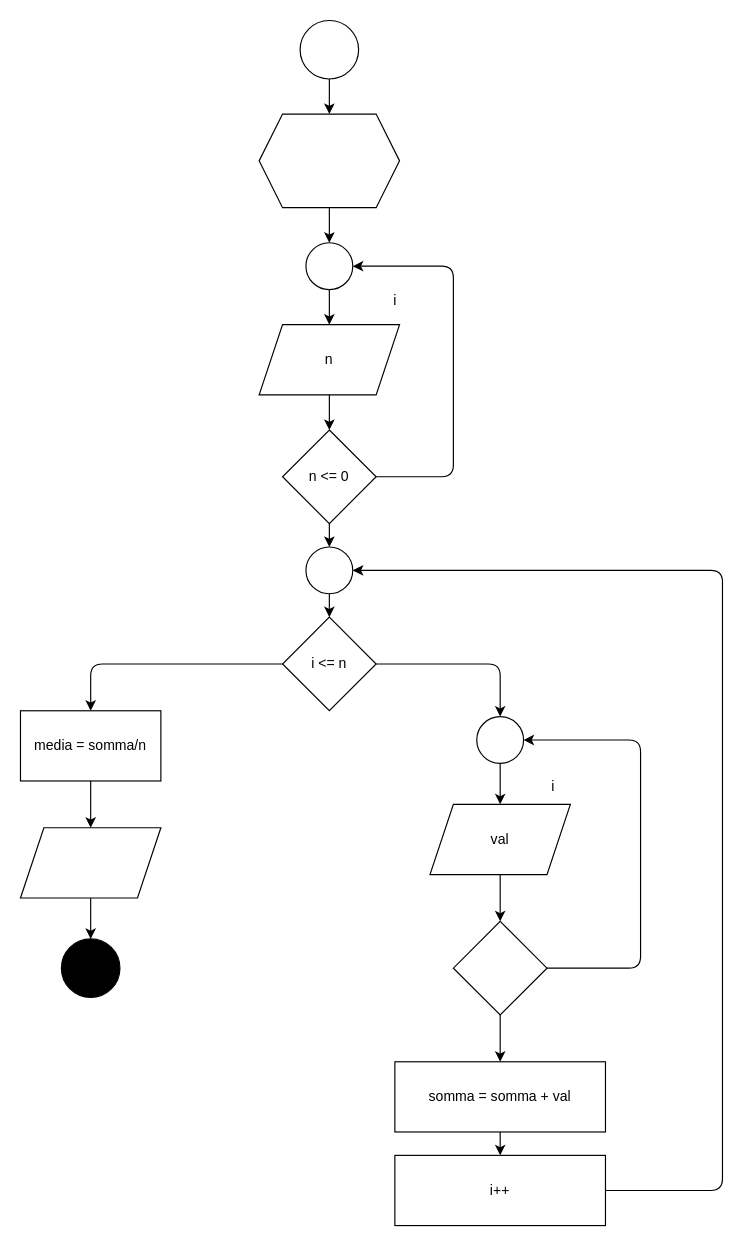
This 752x1246 diagram has some shape labels left out. Here are the shapes that lost their labels. From the top down, the centre of each, then its label:
At [329,160]: "int n, somma = 0, val, i = 1 float media".
At [90,862]: "media".
At [499,967]: "val <= 0".
